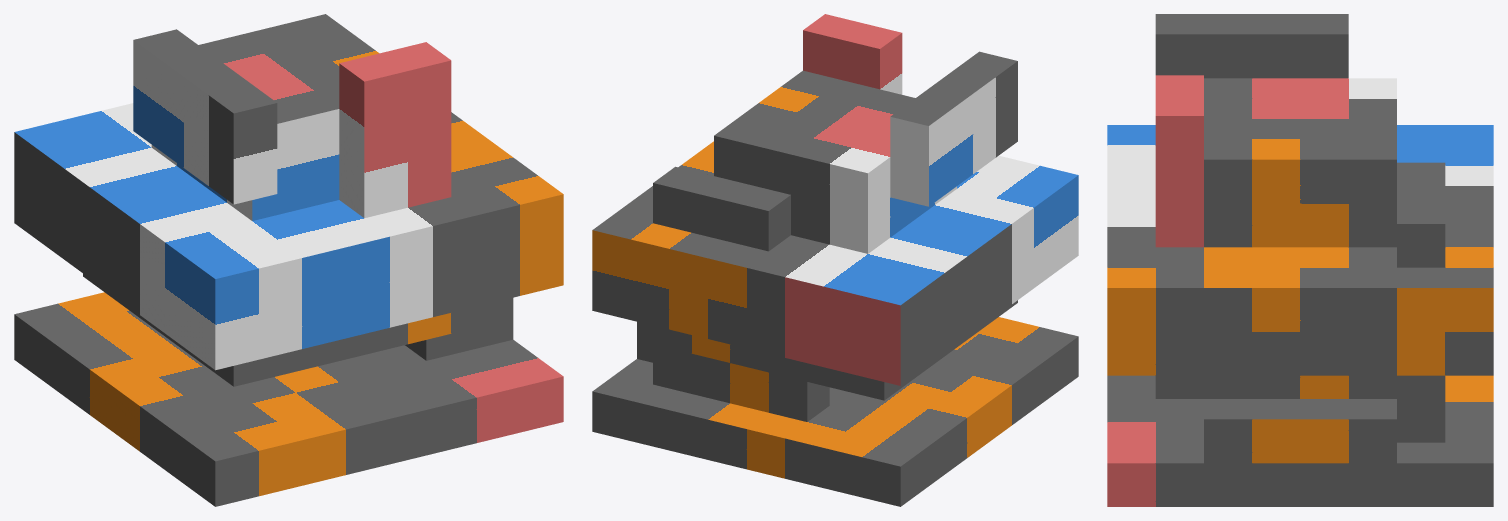
File: Functional Trash.obj
3 renders of one model, left to right at view 1: azimuth 30°, elevation 25°; view 2: azimuth 150°, elevation 25°; view 3: azimuth 270°, elevation 25°, orthographic. The views are drawn at different scales.
Parts seen in each view (by area): view 1: cube; view 2: cube; view 3: cube.
Boxes of the visible parts, box(x1,y1,x2,y2) form: cube: box(14, 14, 563, 506); cube: box(592, 14, 1078, 506); cube: box(1107, 14, 1493, 506).
Size of the model in its own units: 0.5 by 0.5 by 0.5.
Materials: 1 (1 with a texture image).
